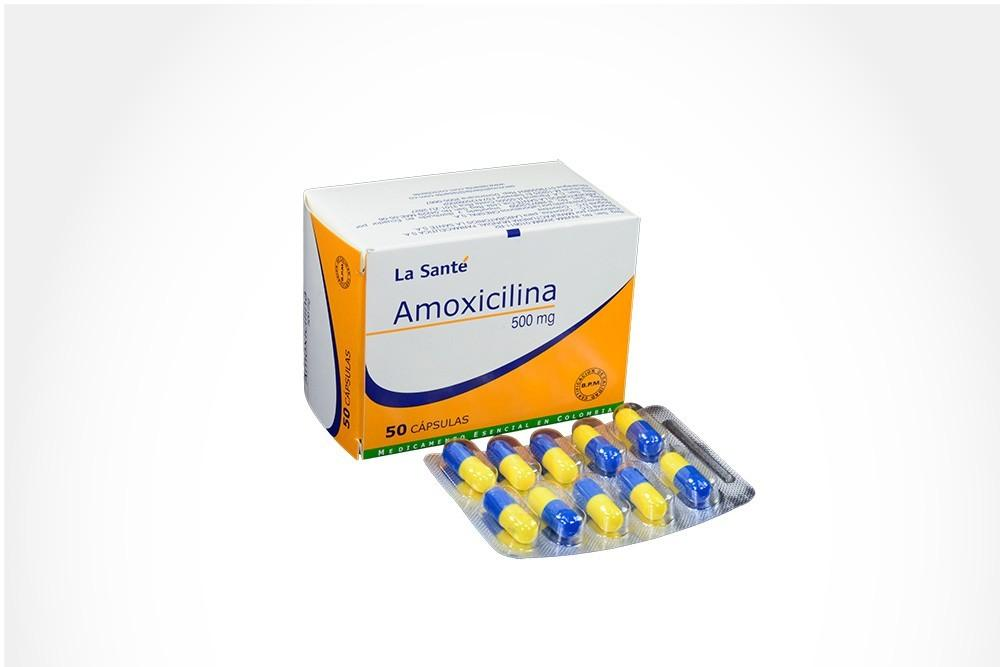LaSante: (372, 231, 631, 451)
